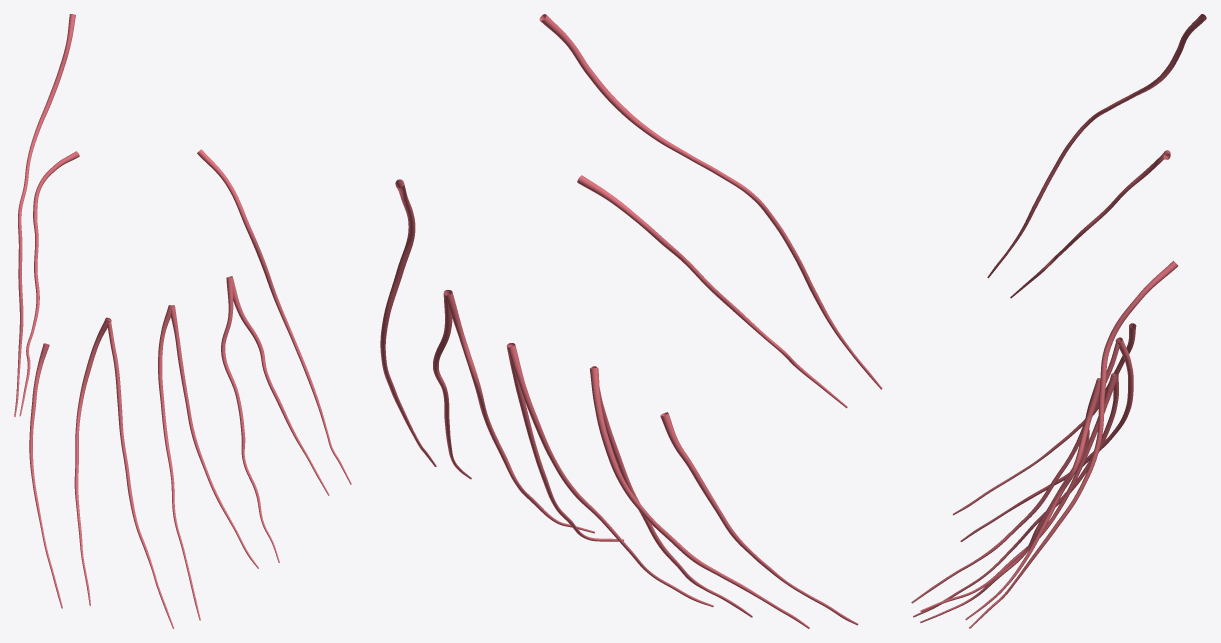
3 renders of one model, left to right at view 1: azimuth 30°, elevation 25°; view 2: azimuth 150°, elevation 25°; view 3: azimuth 270°, elevation 25°, orthographic. The views are drawn at different scales.
Visible parts, largest first — view 1: ZA_2cd3d8415ef1cbe8; view 2: ZA_2cd3d8415ef1cbe8; view 3: ZA_2cd3d8415ef1cbe8.
Boxes of the visible parts, <box> form: ZA_2cd3d8415ef1cbe8: <box>14,14,351,628</box>; ZA_2cd3d8415ef1cbe8: <box>380,14,882,628</box>; ZA_2cd3d8415ef1cbe8: <box>911,14,1206,628</box>.
Size of the model in its own units: 0.107 by 0.1608 by 0.0714.
